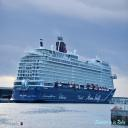cruises: (11, 36, 118, 107)
